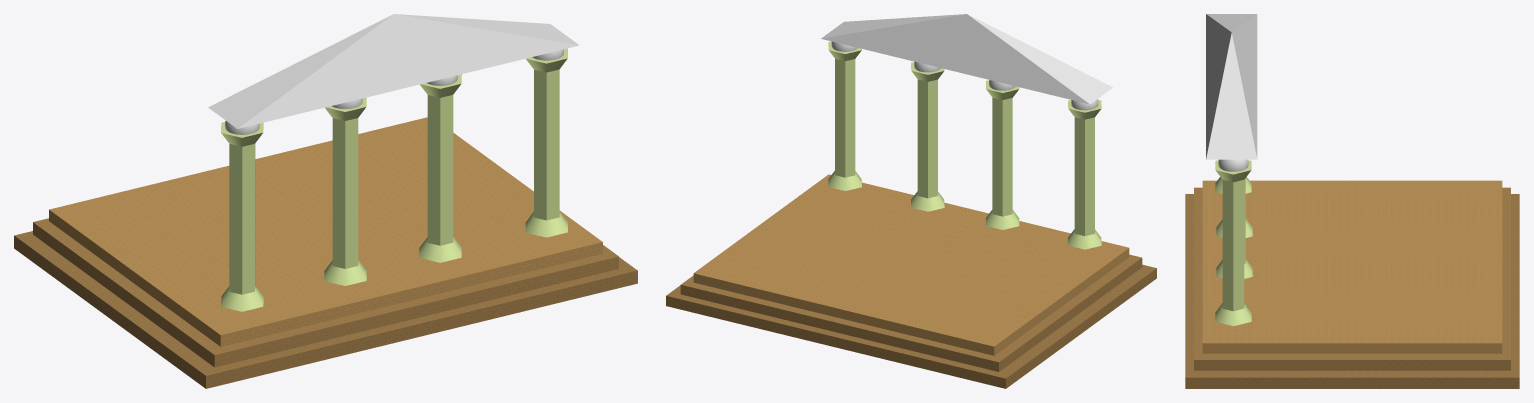
File: godd.FBX
The picture shows the model from 3 angles, left to right: view 1: azimuth 30°, elevation 25°; view 2: azimuth 150°, elevation 25°; view 3: azimuth 270°, elevation 25°; orthographic projection. The views are drawn at different scales.
Visible parts, largest first — view 1: Box003, Pyramid002, Box001, Box002, Cone011, Cone009, Cone008, Cone001; view 2: Box003, Pyramid002, Box001, Box002, Cone008, Cone009, Cone011, Cone001; view 3: Box003, Box001, Box002, Pyramid002, Cone001, Cone011, Cone002, Sphere001.
Boxes of the visible parts, <box> form: Box003: <box>49,117,602,346</box>; Pyramid002: <box>208,14,579,128</box>; Box001: <box>14,231,637,388</box>; Box002: <box>33,218,618,367</box>; Cone011: <box>419,95,461,262</box>; Cone009: <box>324,118,366,285</box>; Cone008: <box>221,144,263,311</box>; Cone001: <box>525,69,567,237</box>; Box003: <box>693,174,1129,355</box>; Pyramid002: <box>821,14,1112,104</box>; Box001: <box>666,264,1156,388</box>; Box002: <box>680,254,1142,371</box>; Cone008: <box>1068,117,1101,249</box>; Cone009: <box>985,97,1019,229</box>; Cone011: <box>911,79,944,211</box>; Cone001: <box>828,59,861,190</box>; Box003: <box>1202,180,1502,353</box>; Box001: <box>1185,194,1519,388</box>; Box002: <box>1194,187,1510,370</box>; Pyramid002: <box>1206,14,1257,159</box>; Cone001: <box>1215,180,1251,326</box>; Cone011: <box>1216,178,1252,278</box>; Cone002: <box>1215,160,1251,182</box>; Sphere001: <box>1218,159,1248,171</box>.
Bounding box in the file's own units: 51.97 × 34.86 × 40.
4 materials, 3 textured.
